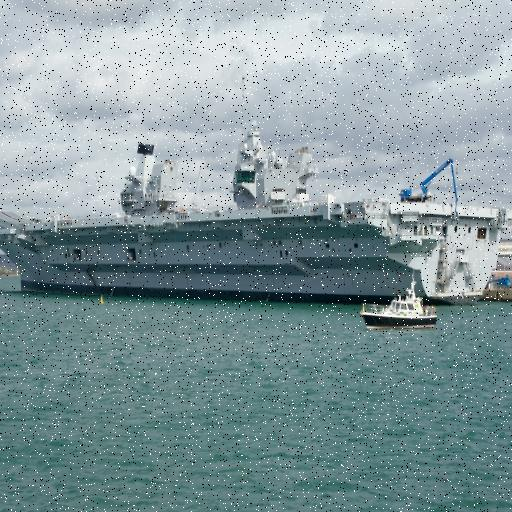Portanaves: (1, 103, 509, 308)
